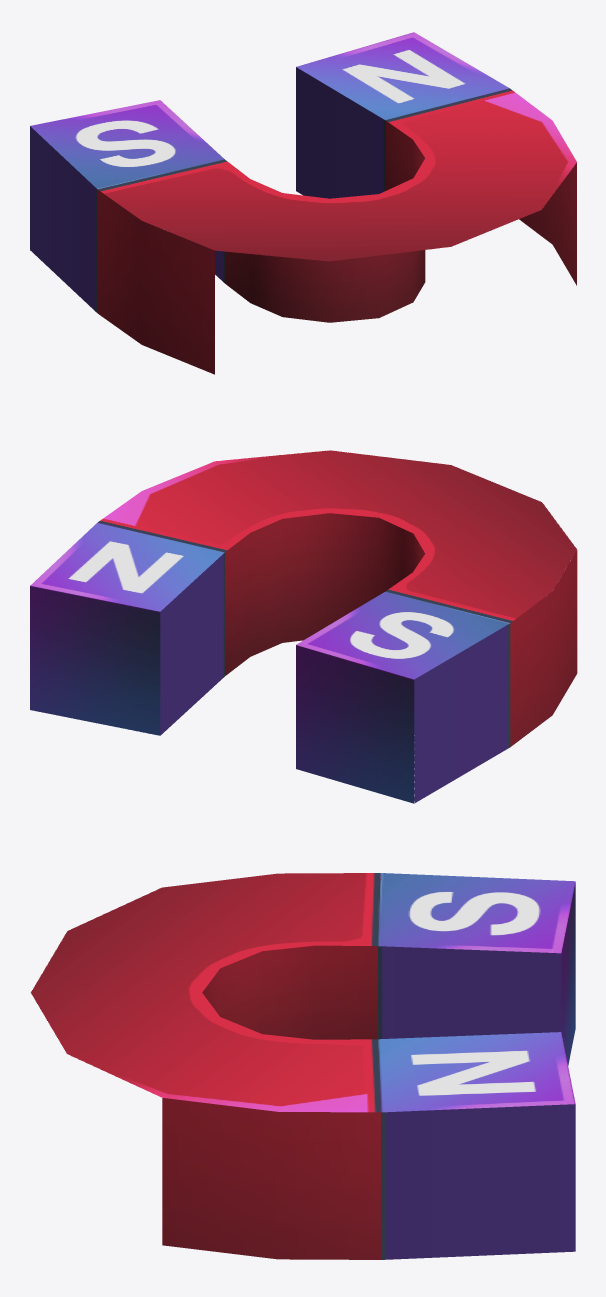
The model's file is magnet.FBX.
3 views of the same model, one above another, from view 1: azimuth 30°, elevation 25°; view 2: azimuth 150°, elevation 25°; view 3: azimuth 270°, elevation 25° (orthographic). The views are drawn at different scales.
Visible parts, largest first — view 1: Box007; view 2: Box007; view 3: Box007.
Boxes of the visible parts, x1,y1,x2,y2 form: Box007: (30, 32, 576, 374); Box007: (30, 450, 577, 803); Box007: (30, 873, 575, 1259).
Bounding box in the file's own units: 18.86 × 6.29 × 18.13.
